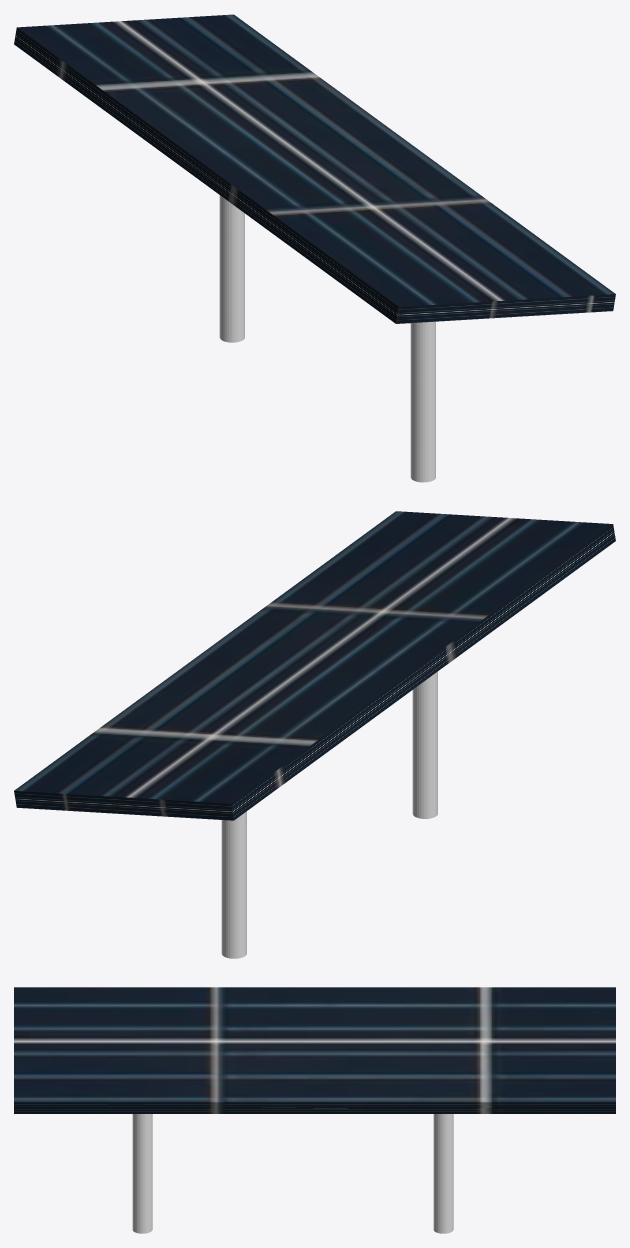
Rendered from PanelSingle.glb.
3 renders of one model, top to bottom at view 1: azimuth 30°, elevation 25°; view 2: azimuth 150°, elevation 25°; view 3: azimuth 270°, elevation 25°, orthographic. The views are drawn at different scales.
Visible parts, largest first — view 1: Cube, Cylinder, Cylinder.002; view 2: Cube, Cylinder.002, Cylinder; view 3: Cube, Cylinder, Cylinder.002.
Part boxes in pixels (<box>): Cube: <box>14,14,615,323</box>; Cylinder: <box>410,321,435,482</box>; Cylinder.002: <box>219,195,244,342</box>; Cube: <box>14,511,615,820</box>; Cylinder.002: <box>221,811,246,958</box>; Cylinder: <box>412,671,437,818</box>; Cube: <box>14,987,615,1113</box>; Cylinder: <box>132,1114,152,1233</box>; Cylinder.002: <box>433,1114,453,1233</box>.
Bounding box in the file's own units: 2.96 × 3.28 × 8.89.
3 materials, 1 textured.
